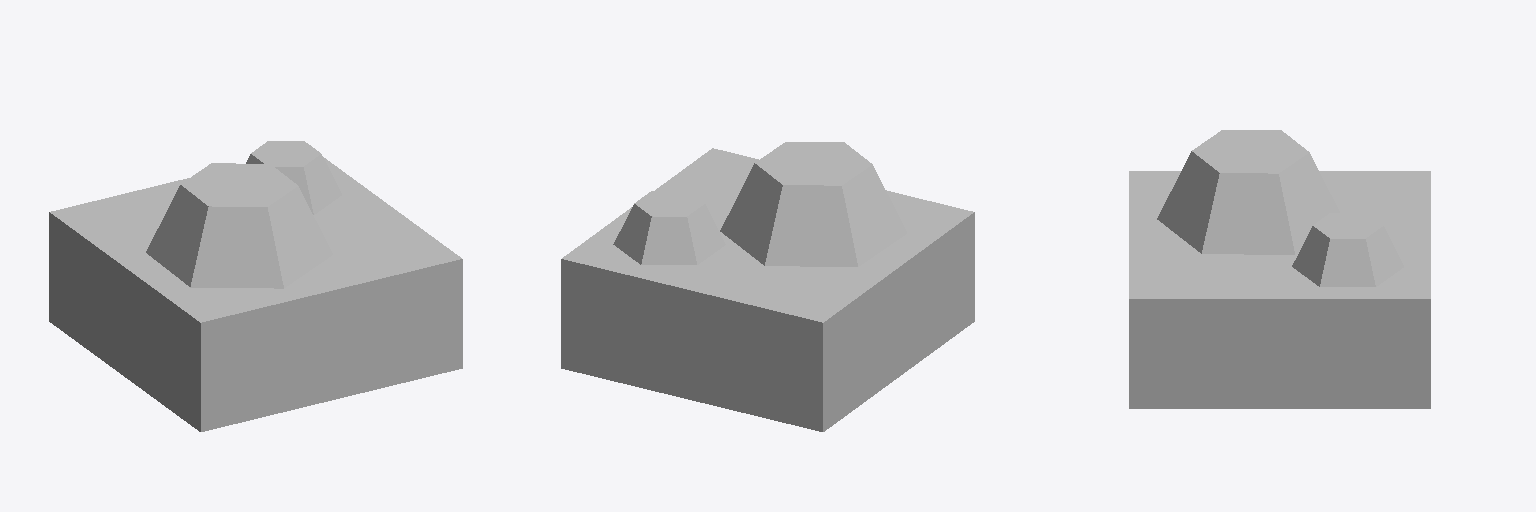
The model's file is tile_072.obj.
3 renders of one model, left to right at view 1: azimuth 30°, elevation 25°; view 2: azimuth 150°, elevation 25°; view 3: azimuth 270°, elevation 25°, orthographic.
Visible parts, largest first — view 1: tile_072, Group; view 2: tile_072, Group; view 3: tile_072, Group.
Boxes of the visible parts, x1=… form: tile_072: x1=49, y1=158, x2=462, y2=431; Group: x1=146, y1=141, x2=341, y2=288; tile_072: x1=561, y1=148, x2=974, y2=431; Group: x1=613, y1=142, x2=906, y2=266; tile_072: x1=1129, y1=171, x2=1430, y2=408; Group: x1=1157, y1=130, x2=1403, y2=286.
Bounding box in the file's own units: 1 × 0.65 × 1.